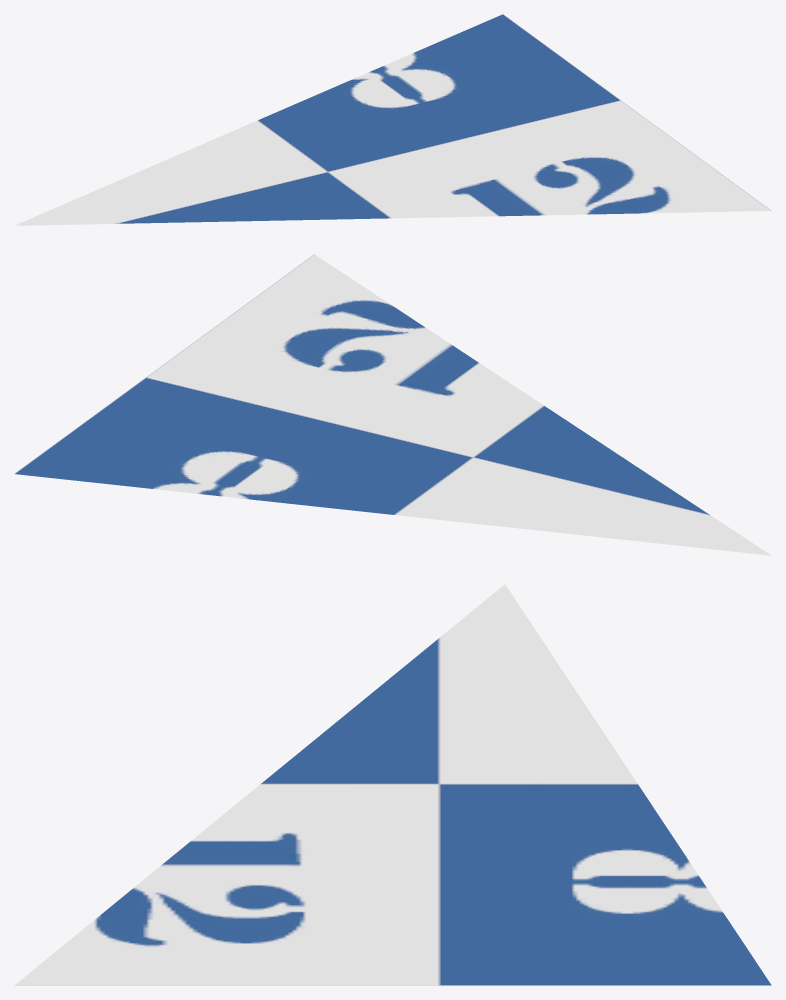
The model's file is Rui_Fragment3.fbx.
The picture shows the model from 3 angles, top to bottom: view 1: azimuth 30°, elevation 25°; view 2: azimuth 150°, elevation 25°; view 3: azimuth 270°, elevation 25°; orthographic projection. The views are drawn at different scales.
Visible parts, largest first — view 1: SM_e_Plc_P1007_Fragment003; view 2: SM_e_Plc_P1007_Fragment003; view 3: SM_e_Plc_P1007_Fragment003.
Boxes of the visible parts, box(x1,y1,x2,y2) form: SM_e_Plc_P1007_Fragment003: box(14, 14, 771, 225); SM_e_Plc_P1007_Fragment003: box(14, 254, 771, 555); SM_e_Plc_P1007_Fragment003: box(14, 584, 771, 985).
Bounding box in the file's own units: 49.78 × 8.82e-15 × 39.7.
